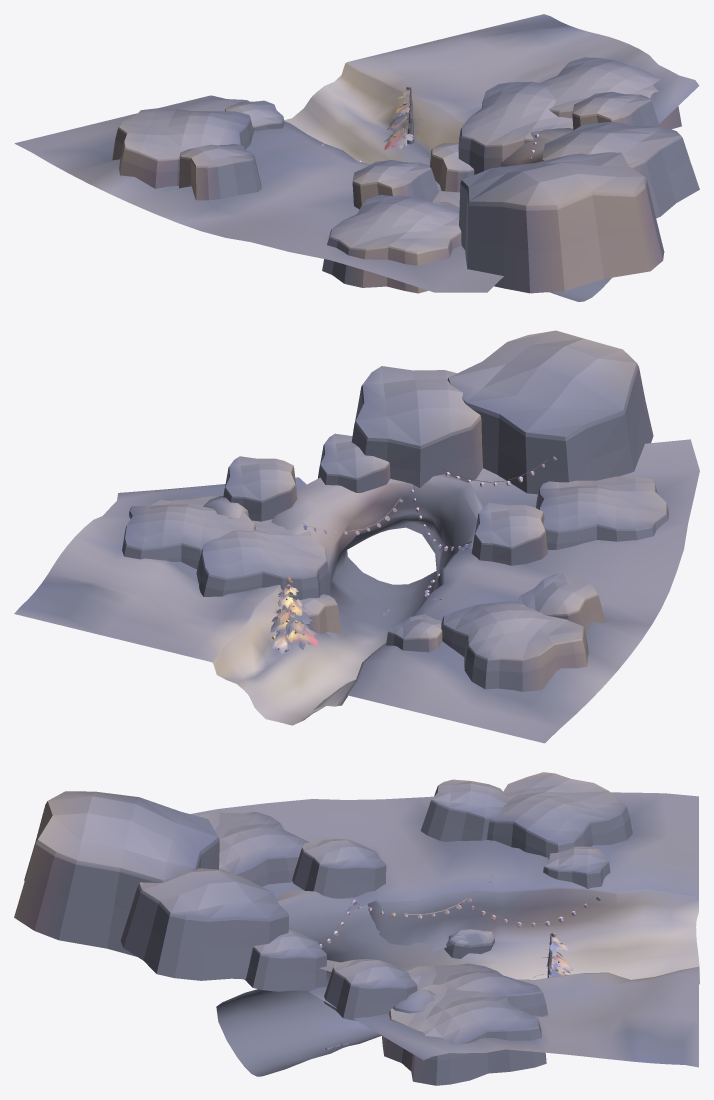
File: Arctic_Luge_Tunnel_Left_15_Start_A.glb
3 views of the same model, one above another, from view 1: azimuth 30°, elevation 25°; view 2: azimuth 150°, elevation 25°; view 3: azimuth 270°, elevation 25° (orthographic). The views are drawn at different scales.
Visible parts, largest first — view 1: Arctic_Luge_Tunnel_Left_15_Start_A, Arctic_Luge_SmallIceRock_prop (7), Arctic_Luge_MediumIceRock_prop (3), Arctic_Luge_MediumIceRock_prop, Arctic_Luge_SmallIceRock_prop (5), Arctic_Luge_MediumIceRock_prop (2), Arctic_Luge_MediumIceRock_prop (1), Arctic_Luge_SmallIceRock_prop (2), Arctic_Luge_SmallIceRock_prop (3), Arctic_Luge_SmallIceRock_prop (4), Arctic_Luge_SmallIceRock_prop, Arctic_Luge_SmallIceRock_prop (1); view 2: Arctic_Luge_Tunnel_Left_15_Start_A, Arctic_Luge_SmallIceRock_prop (7), Arctic_Luge_SmallIceRock_prop (5), Arctic_Luge_MediumIceRock_prop, Arctic_Luge_MediumIceRock_prop (2), Arctic_Luge_MediumIceRock_prop (3), Arctic_Luge_MediumIceRock_prop (1), Arctic_Luge_SmallIceRock_prop (3), Arctic_Luge_SmallIceRock_prop (4), Arctic_Luge_SmallIceRock_prop (2), Arctic_Luge_SmallIceRock_prop (6), Arctic_Luge_SmallIceRock_prop (1) (+2 smaller); view 3: Arctic_Luge_Tunnel_Left_15_Start_A, Arctic_Luge_SmallIceRock_prop (7), Arctic_Luge_SmallIceRock_prop (5), Arctic_Luge_MediumIceRock_prop (1), Arctic_Luge_MediumIceRock_prop, Arctic_Luge_MediumIceRock_prop (3), Arctic_Luge_SmallIceRock_prop (3), Arctic_Luge_SmallIceRock_prop (4), Arctic_Luge_SmallIceRock_prop (2), Arctic_Luge_SmallIceRock_prop (6), Arctic_Luge_MediumIceRock_prop (2), Arctic_Luge_SmallIceRock_prop (1) (+1 smaller).
Part boxes in pixels (x1,y1,x2,y2): Arctic_Luge_Tunnel_Left_15_Start_A: (14,14,699,301); Arctic_Luge_SmallIceRock_prop (7): (459,152,664,293); Arctic_Luge_MediumIceRock_prop (3): (322,195,461,293); Arctic_Luge_MediumIceRock_prop: (112,108,253,188); Arctic_Luge_SmallIceRock_prop (5): (542,121,699,218); Arctic_Luge_MediumIceRock_prop (2): (458,81,573,174); Arctic_Luge_MediumIceRock_prop (1): (540,57,681,129); Arctic_Luge_SmallIceRock_prop (2): (179,143,261,200); Arctic_Luge_SmallIceRock_prop (3): (352,160,438,209); Arctic_Luge_SmallIceRock_prop (4): (572,91,659,130); Arctic_Luge_SmallIceRock_prop: (429,143,474,191); Arctic_Luge_SmallIceRock_prop (1): (225,100,284,131); Arctic_Luge_Tunnel_Left_15_Start_A: (14,439,699,743); Arctic_Luge_SmallIceRock_prop (7): (447,330,653,494); Arctic_Luge_SmallIceRock_prop (5): (351,366,482,487); Arctic_Luge_MediumIceRock_prop: (441,601,588,691); Arctic_Luge_MediumIceRock_prop (2): (196,519,330,599); Arctic_Luge_MediumIceRock_prop (3): (536,476,668,549); Arctic_Luge_MediumIceRock_prop (1): (122,496,255,569); Arctic_Luge_SmallIceRock_prop (3): (471,502,547,565); Arctic_Luge_SmallIceRock_prop (4): (223,456,297,521); Arctic_Luge_SmallIceRock_prop (2): (517,572,605,634); Arctic_Luge_SmallIceRock_prop (6): (318,433,390,492); Arctic_Luge_SmallIceRock_prop (1): (386,614,442,652); Arctic_Luge_Tunnel_Left_15_Start_A: (190,792,699,1076); Arctic_Luge_SmallIceRock_prop (7): (14,791,219,956); Arctic_Luge_SmallIceRock_prop (5): (120,868,288,980); Arctic_Luge_MediumIceRock_prop (1): (382,984,546,1085); Arctic_Luge_MediumIceRock_prop: (487,772,632,857); Arctic_Luge_MediumIceRock_prop (3): (198,812,309,886); Arctic_Luge_SmallIceRock_prop (3): (292,839,386,898); Arctic_Luge_SmallIceRock_prop (4): (323,959,417,1020); Arctic_Luge_SmallIceRock_prop (2): (420,779,508,841); Arctic_Luge_SmallIceRock_prop (6): (244,929,326,991); Arctic_Luge_MediumIceRock_prop (2): (406,963,548,1016); Arctic_Luge_SmallIceRock_prop (1): (543,846,610,888).
Size of the model in its own units: 27.16 by 9.53 by 27.78.
